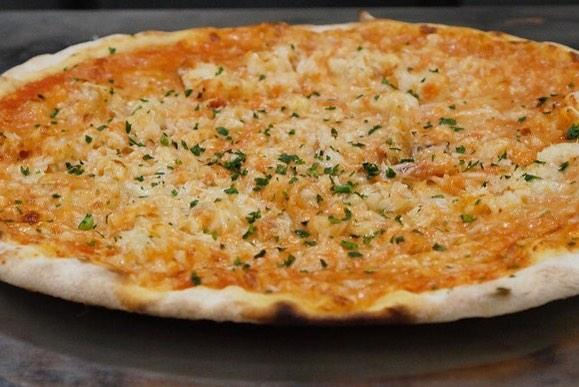Pizza: (0, 17, 579, 330)
